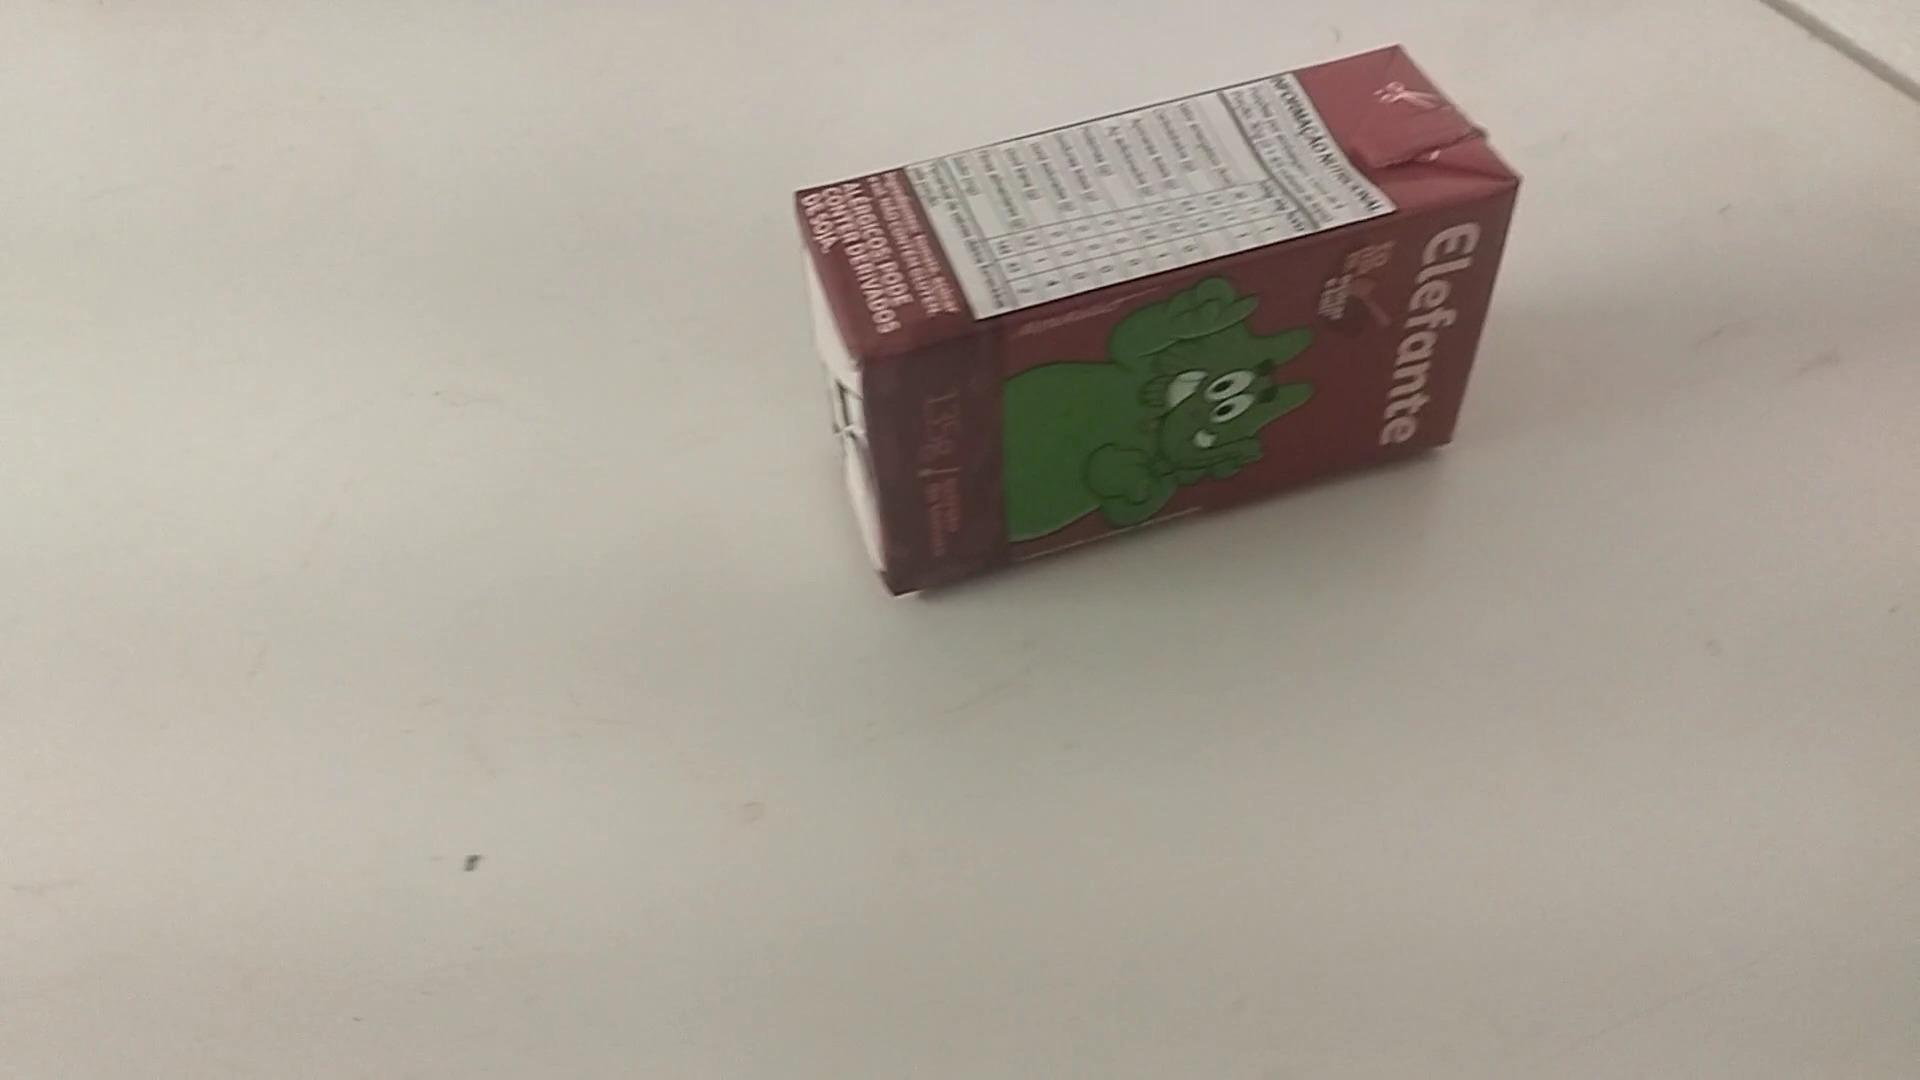tomate: (778, 33, 1524, 617)
